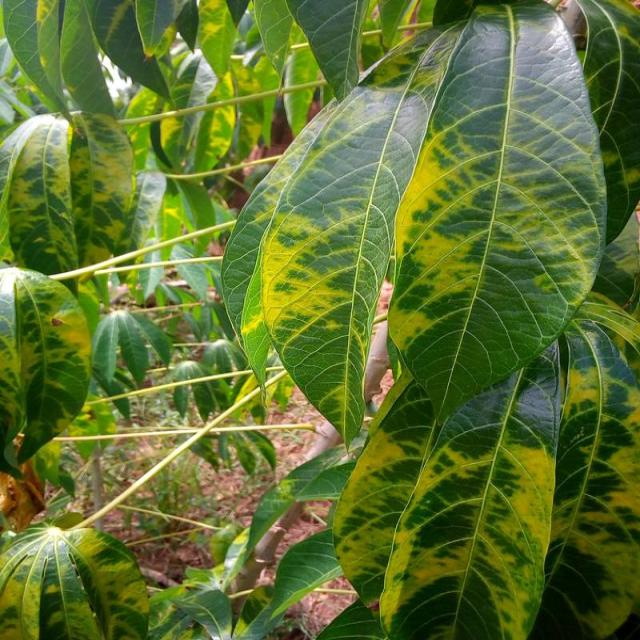cassava leaf: (221, 0, 637, 638), (385, 1, 607, 425), (0, 264, 92, 476)
